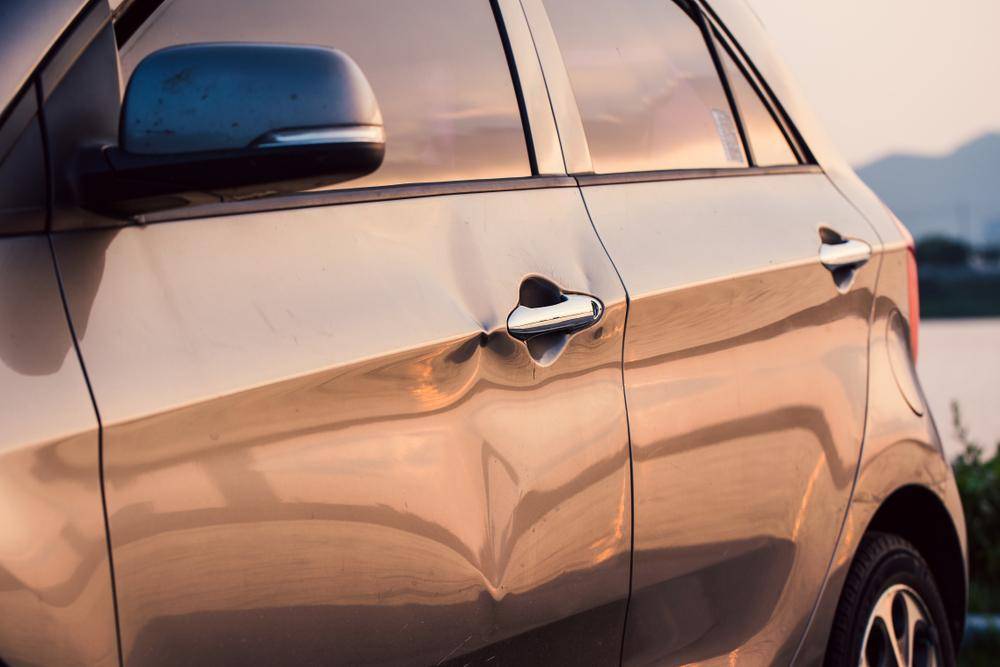dent: (424, 214, 525, 602)
